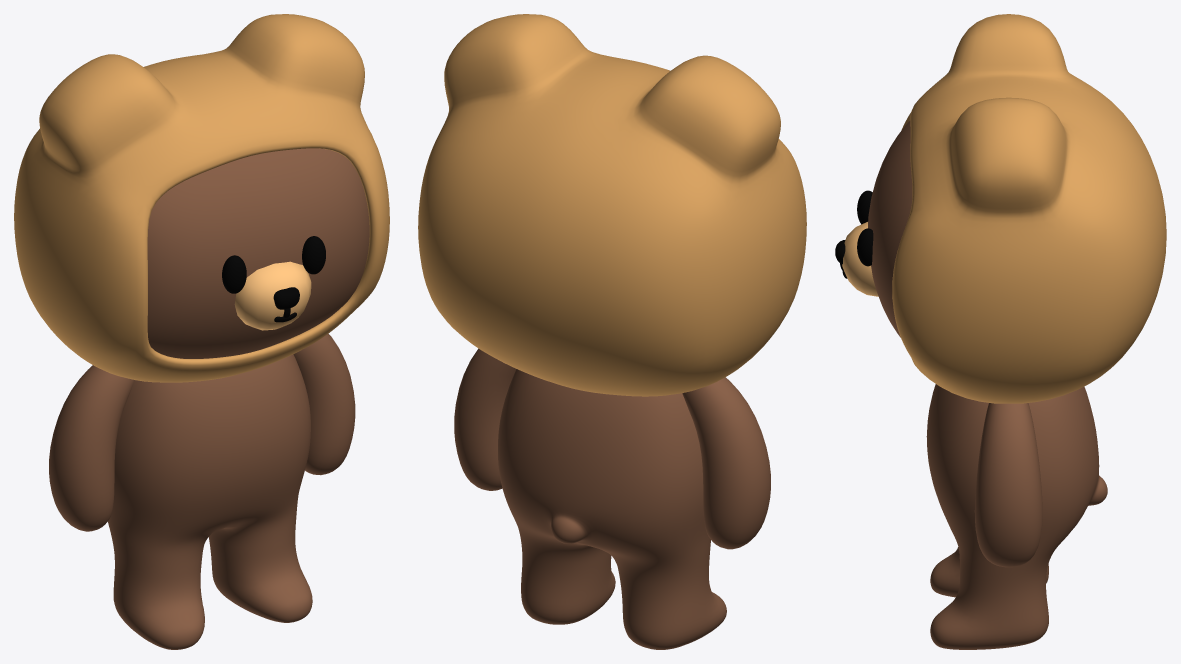
The model's file is uploads_files_5134407_bear.glb.
3 renders of one model, left to right at view 1: azimuth 30°, elevation 25°; view 2: azimuth 150°, elevation 25°; view 3: azimuth 270°, elevation 25°, orthographic. The views are drawn at different scales.
Visible parts, largest first — view 1: Mix; view 2: Mix; view 3: Mix.
Part boxes in pixels (x1,y1,x2,y2): Mix: (14,14,389,649); Mix: (418,14,806,649); Mix: (835,14,1166,649).
Size of the model in its own units: 2.04 by 3.51 by 1.89.
